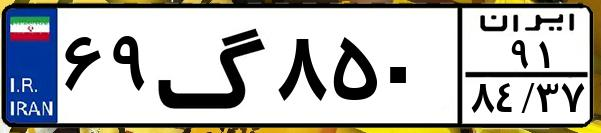0: (385, 28, 445, 110)
1: (537, 27, 568, 80)
3: (535, 70, 560, 125)
4: (495, 70, 520, 125)
5: (330, 28, 385, 110)
6: (57, 26, 110, 100)
7: (560, 70, 590, 125)
8: (270, 28, 330, 110), (470, 70, 495, 125)
9: (110, 28, 156, 98), (508, 27, 537, 80)
گ: (156, 12, 270, 120)
